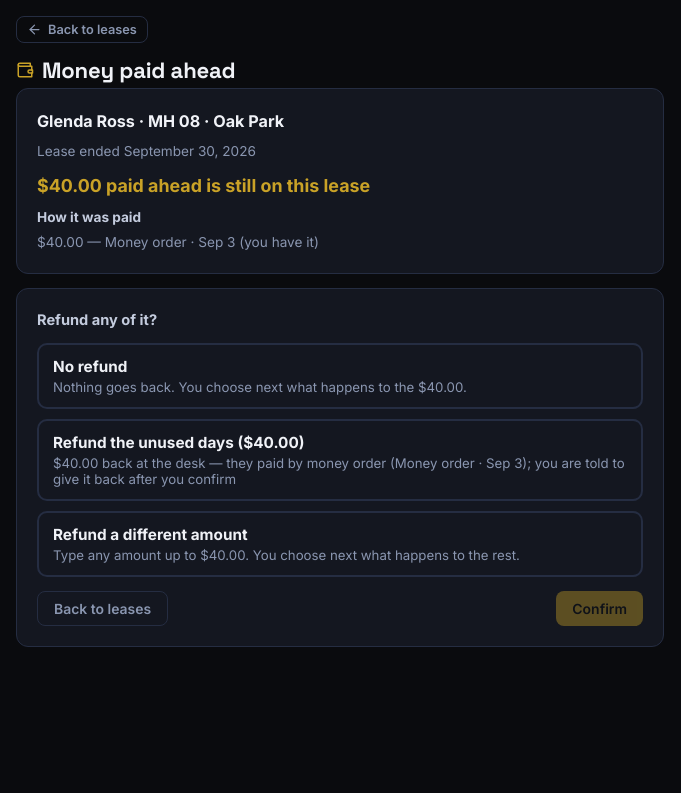
Test: Money paid ahead: the server's choices, shown and sent › No refund, then Keep it: the confirm names the action and sends the choice with the figures it showed
Click the button that starts with "No refund".
click(90, 366)  # box 37,343 -> 643,409
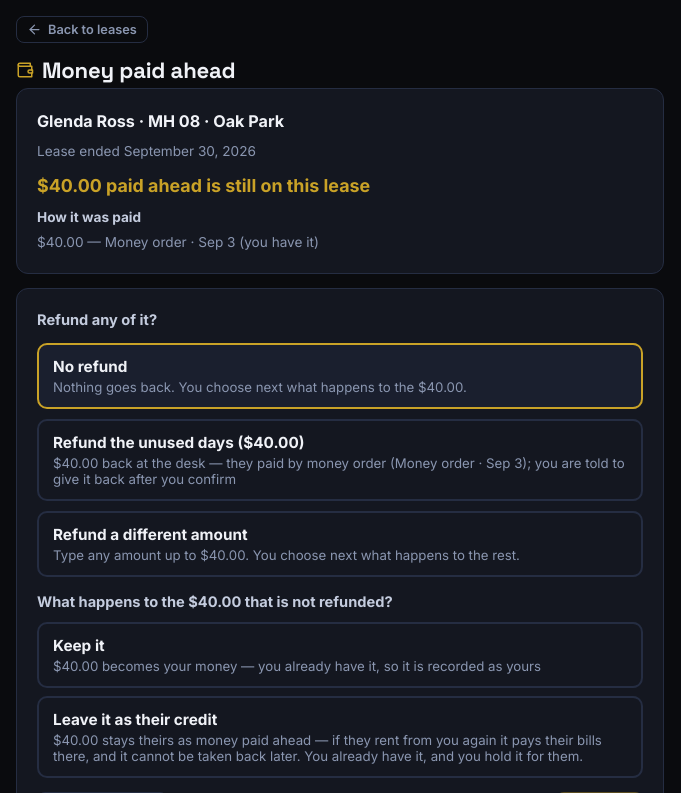
Check: the text "What happens to the $40.00 that is not refunded?" is shown, box 37,593 -> 393,611
Click the button that starts with "Keep it".
click(79, 646)  # box 37,622 -> 643,688
(page scrolled)
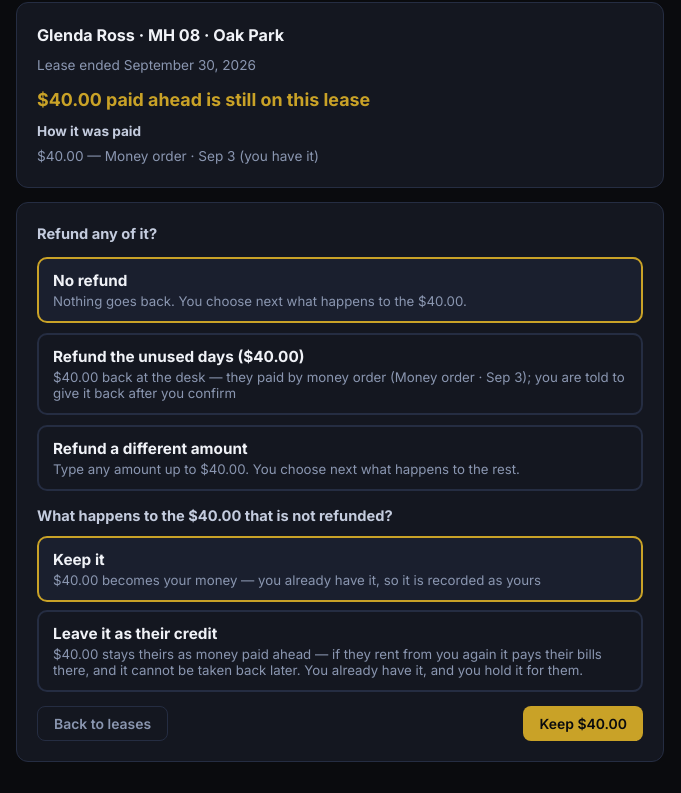
Check: the button "Keep $40.00" is enabled
Click the button "Keep $40.00".
click(583, 724)  # box 524,706 -> 643,741
(page scrolled)
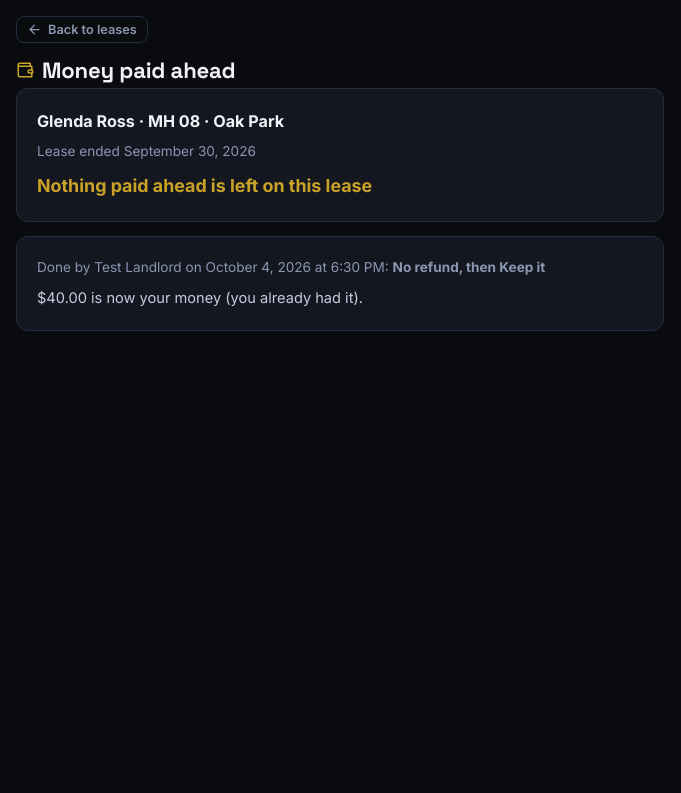
Check: the text "Done by Test Landlord on October 4, 2026" is shown, box 37,259 -> 545,275
